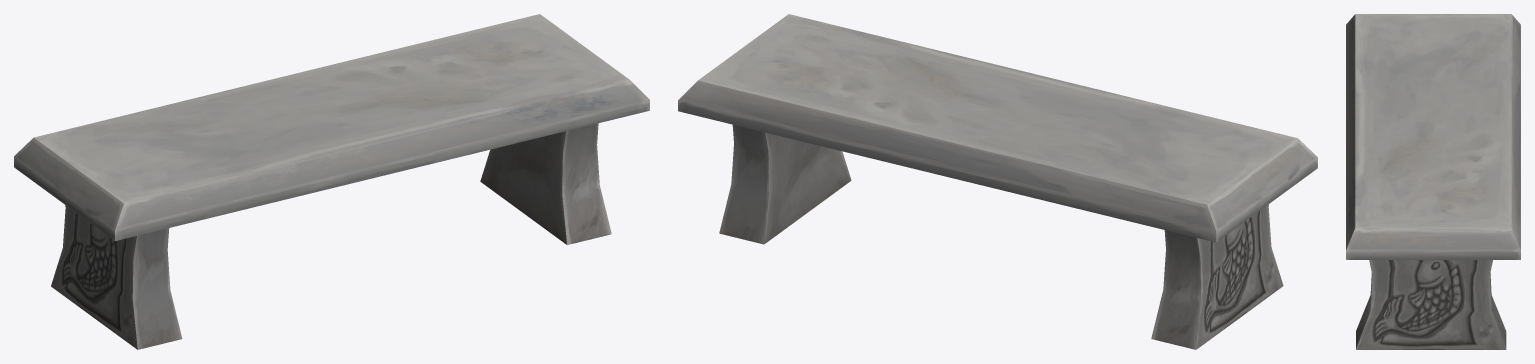
The model's file is Stone_bench.fbx.
The picture shows the model from 3 angles, left to right: view 1: azimuth 30°, elevation 25°; view 2: azimuth 150°, elevation 25°; view 3: azimuth 270°, elevation 25°; orthographic projection. The views are drawn at different scales.
Parts seen in each view (by area): view 1: Stone_bench; view 2: Stone_bench; view 3: Stone_bench.
Boxes of the visible parts, x1,y1,x2,y2 form: Stone_bench: (14,14,649,349); Stone_bench: (678,14,1317,349); Stone_bench: (1346,14,1520,349).
Size of the model in its own units: 162 by 43.5 by 53.07.
